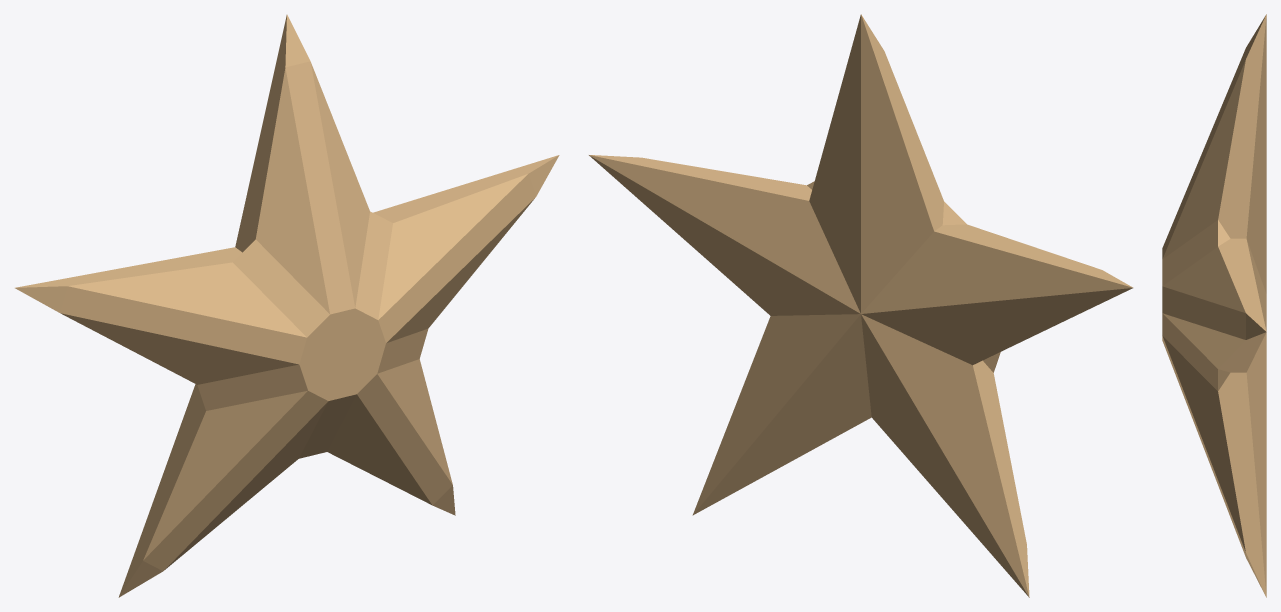
Rendered from starfish.glb.
The picture shows the model from 3 angles, left to right: view 1: azimuth 30°, elevation 25°; view 2: azimuth 150°, elevation 25°; view 3: azimuth 270°, elevation 25°; orthographic projection. The views are drawn at different scales.
Visible parts, largest first — view 1: Star; view 2: Star; view 3: Star.
Boxes of the visible parts, <box> form: Star: <box>15,14,559,597</box>; Star: <box>589,14,1133,597</box>; Star: <box>1162,14,1266,597</box>.
Size of the model in its own units: 1.9 by 1.81 by 0.3366.
Materials: 1 (1 with a texture image).
